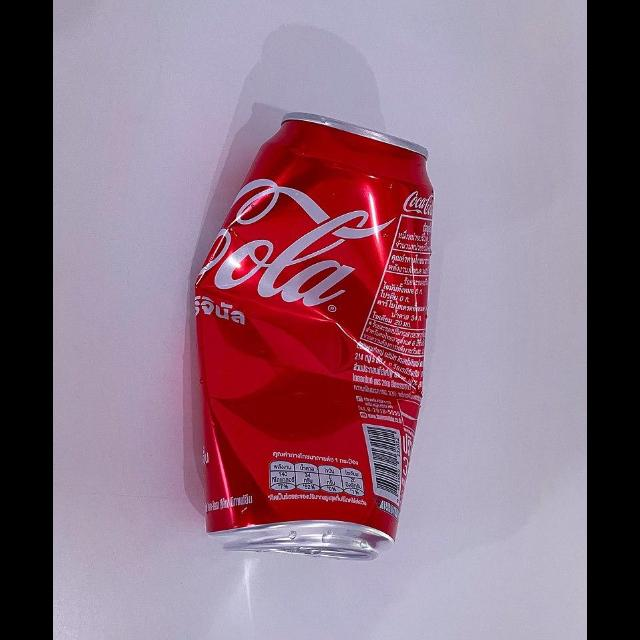lata: (193, 113, 434, 562)
